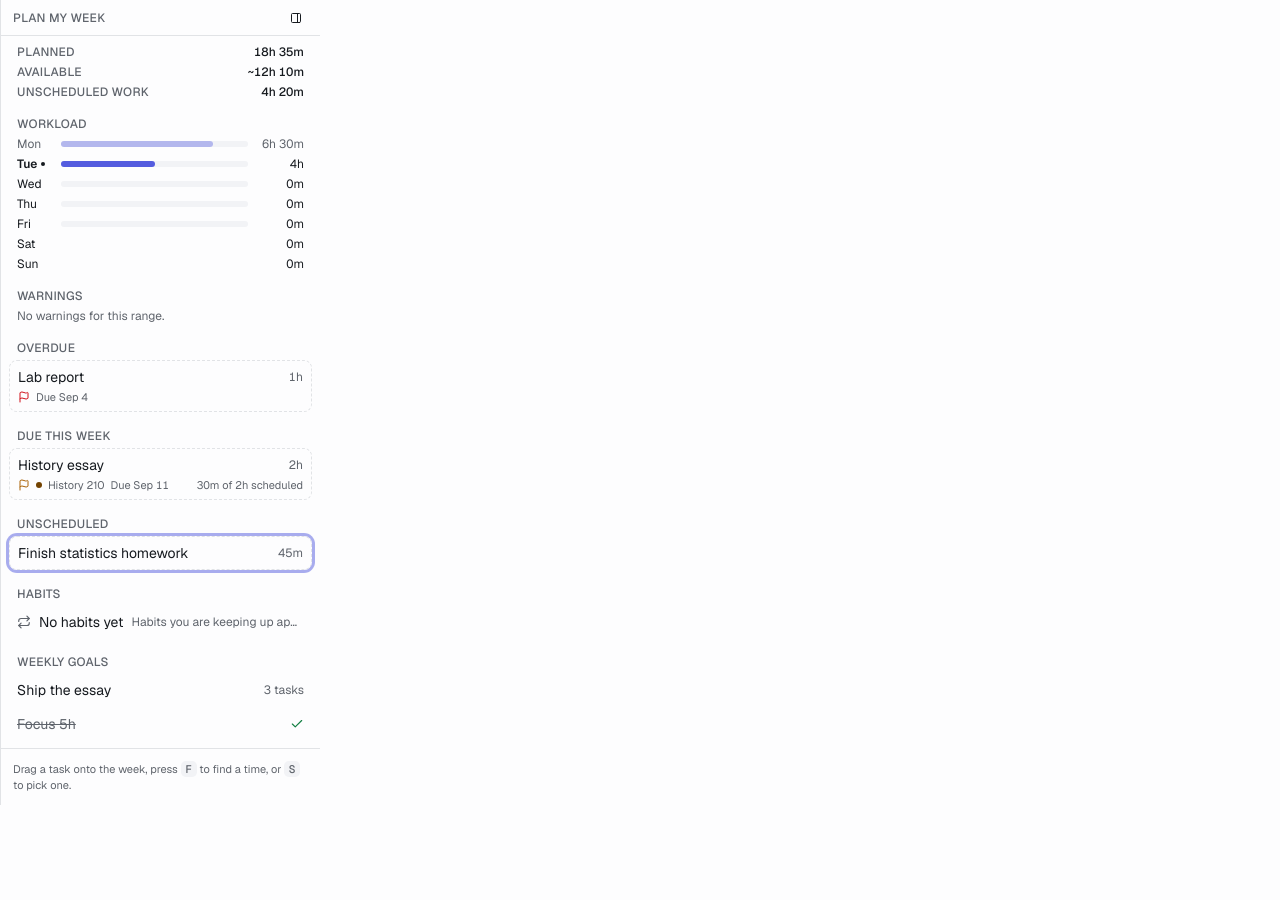
Test: PlanningDrawer › opens the manual dialog from a row's S key and commits an estimate-length block
Press s in the button "Finish statistics homework 45m", box [9, 536, 312, 570]
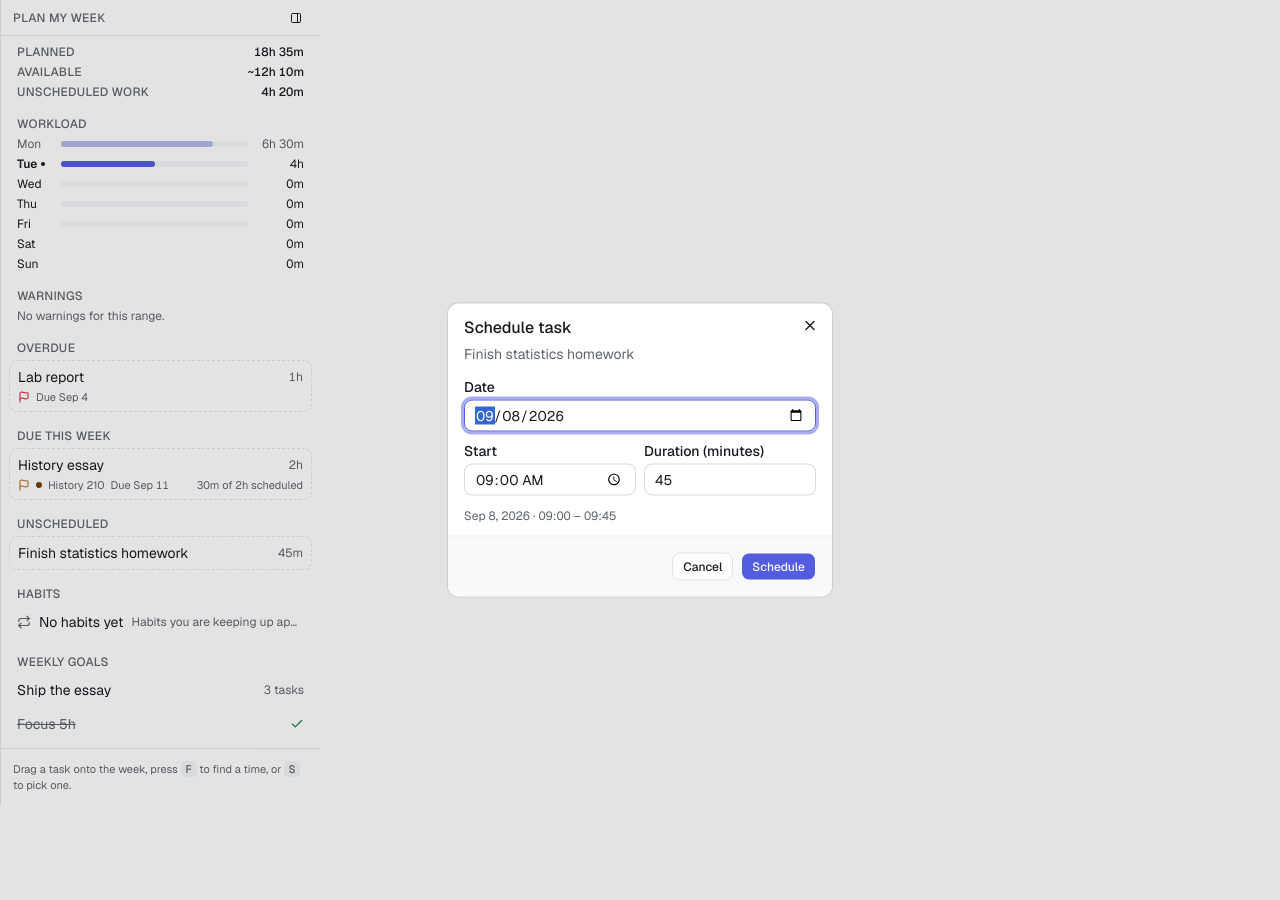
Expected: the dialog "Schedule task" is shown, [448, 304, 832, 596]
Click the button "Schedule" at (779,566), box [741, 552, 816, 580]
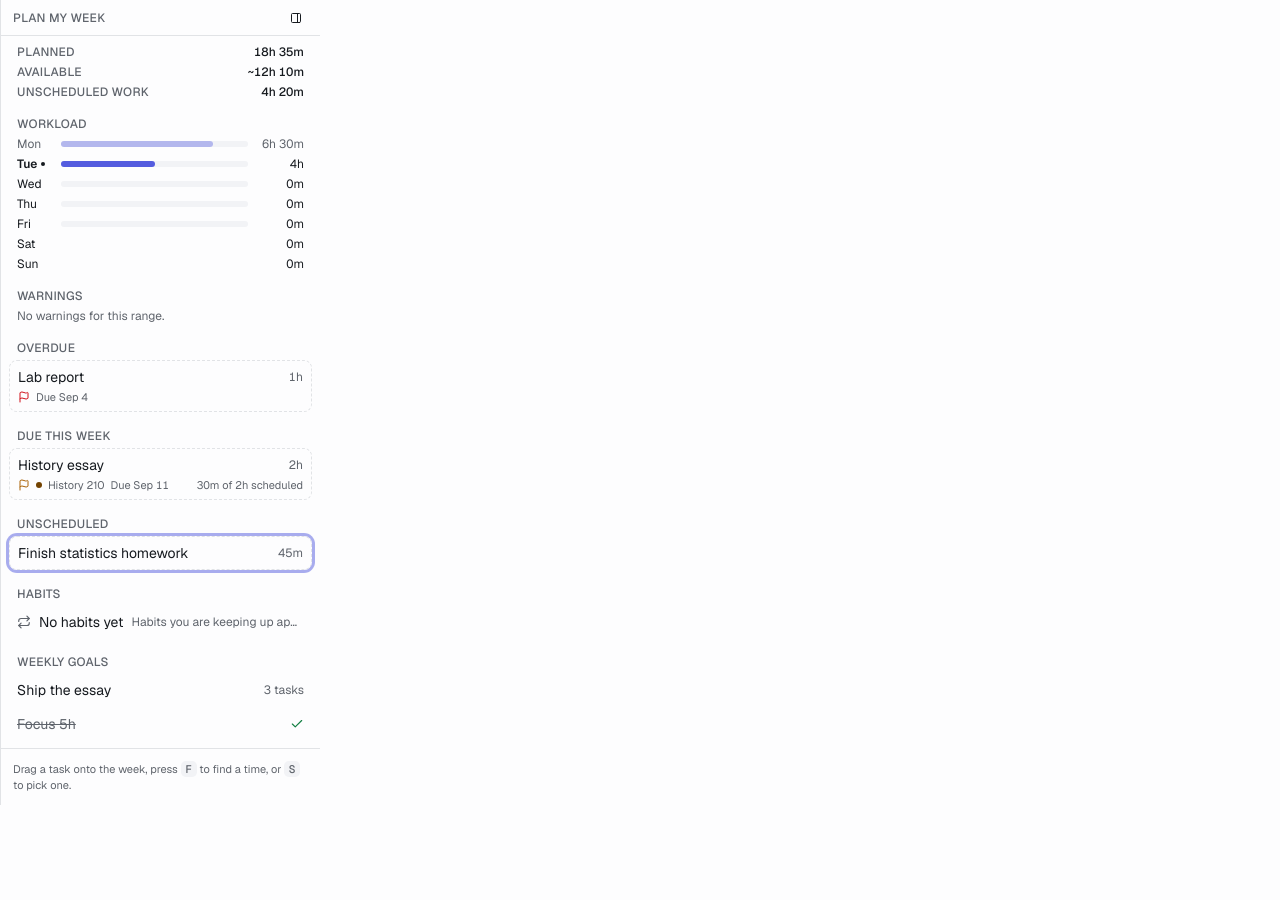
Expected: the dialog is gone
